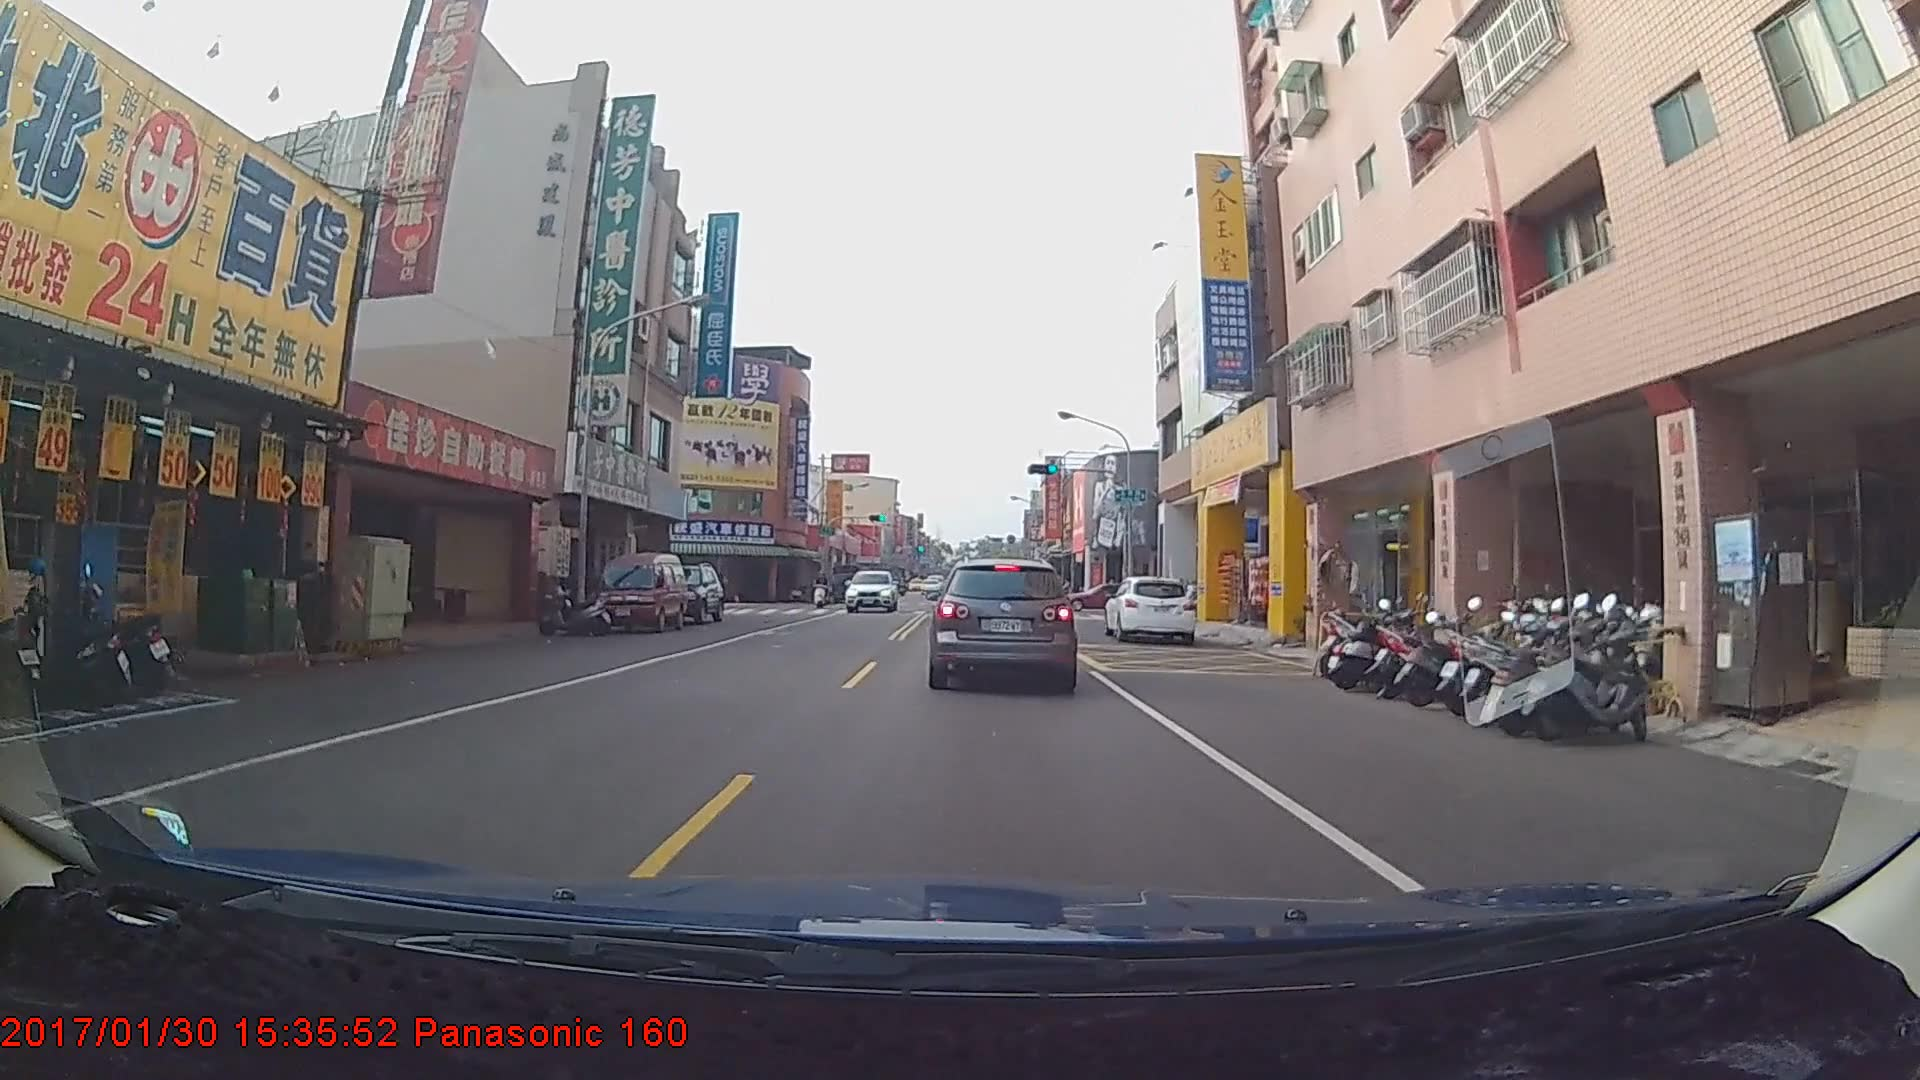rider: (813, 572, 835, 611)
vehicle: (933, 556, 1075, 689), (592, 557, 688, 636), (1104, 574, 1194, 644), (650, 564, 724, 628), (841, 574, 887, 613)
